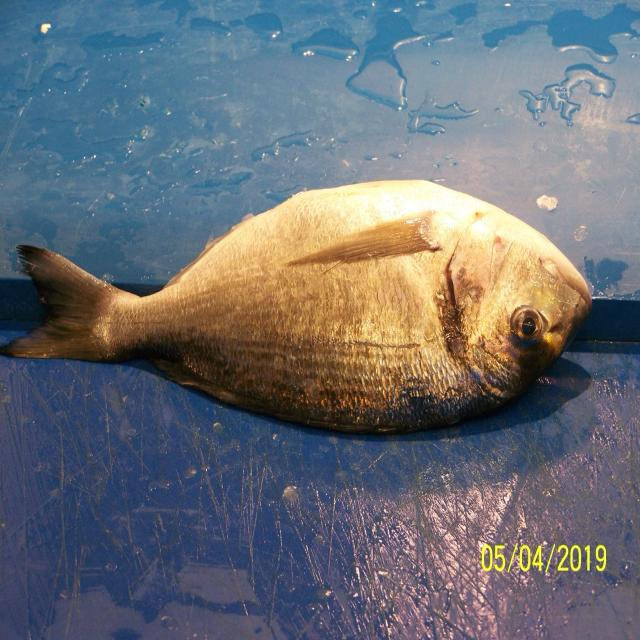Gilt-Head-Bream-c-ipura-: (1, 180, 593, 439)
